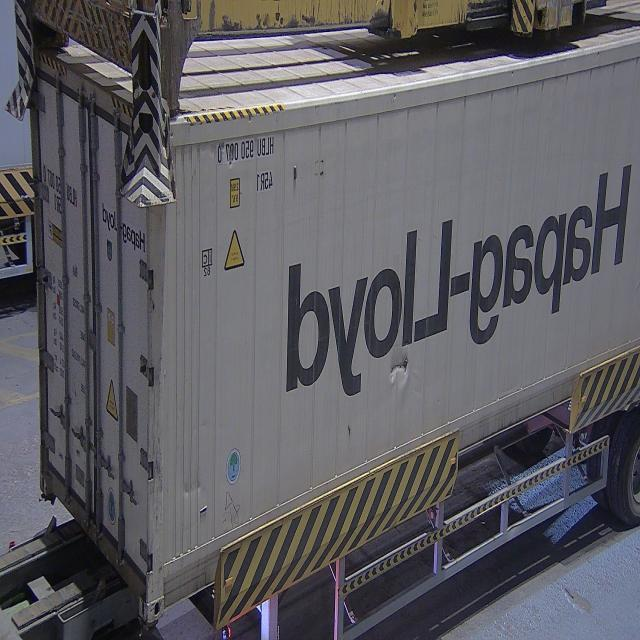hole: (379, 323, 427, 396)
